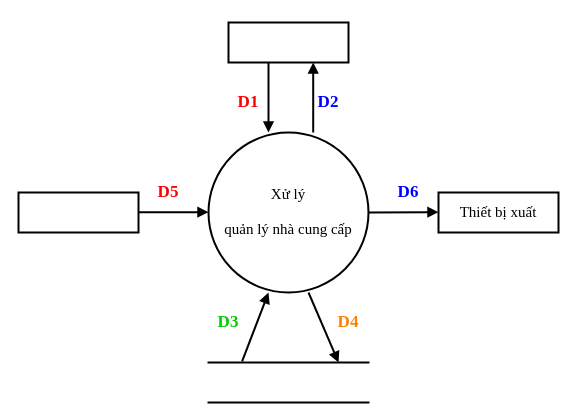
Image size: 576x420. Some labels were removed from this diagram. The centre of each missing label's shape, as x and y in pixels:
"Nhân viên" goes at (288,42).
"Thiết bị nhập" goes at (78,212).
